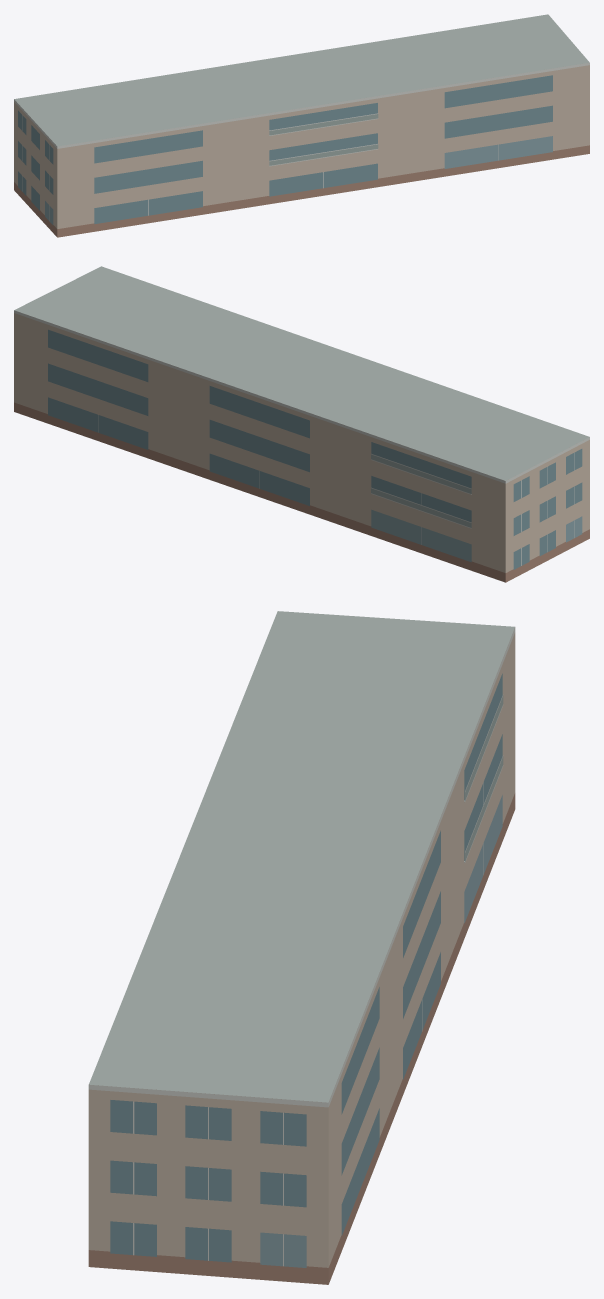
Rendered from survey-upis-32970369.glb.
3 renders of one model, top to bottom at view 1: azimuth 30°, elevation 25°; view 2: azimuth 150°, elevation 25°; view 3: azimuth 270°, elevation 25°, orthographic. The views are drawn at different scales.
Visible parts, largest first — view 1: survey-upis-32970369.tmp; view 2: survey-upis-32970369.tmp; view 3: survey-upis-32970369.tmp.
Boxes of the visible parts, box(x1,y1,x2,y2) form: survey-upis-32970369.tmp: box(14, 14, 589, 237); survey-upis-32970369.tmp: box(14, 266, 589, 582); survey-upis-32970369.tmp: box(88, 611, 515, 1284).
Bounding box in the file's own units: 52.94 × 9.15 × 19.42.
